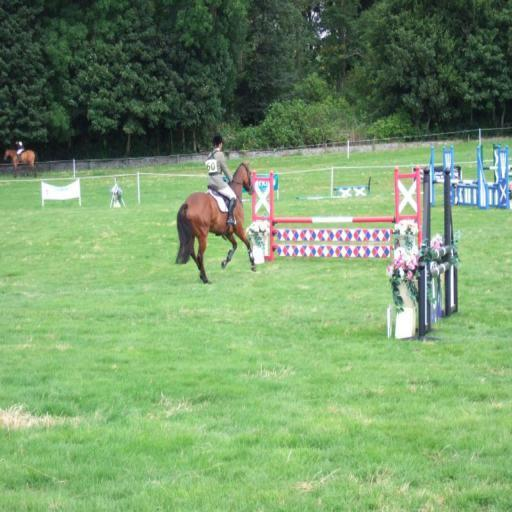horse: (173, 160, 258, 286), (2, 146, 42, 180)
